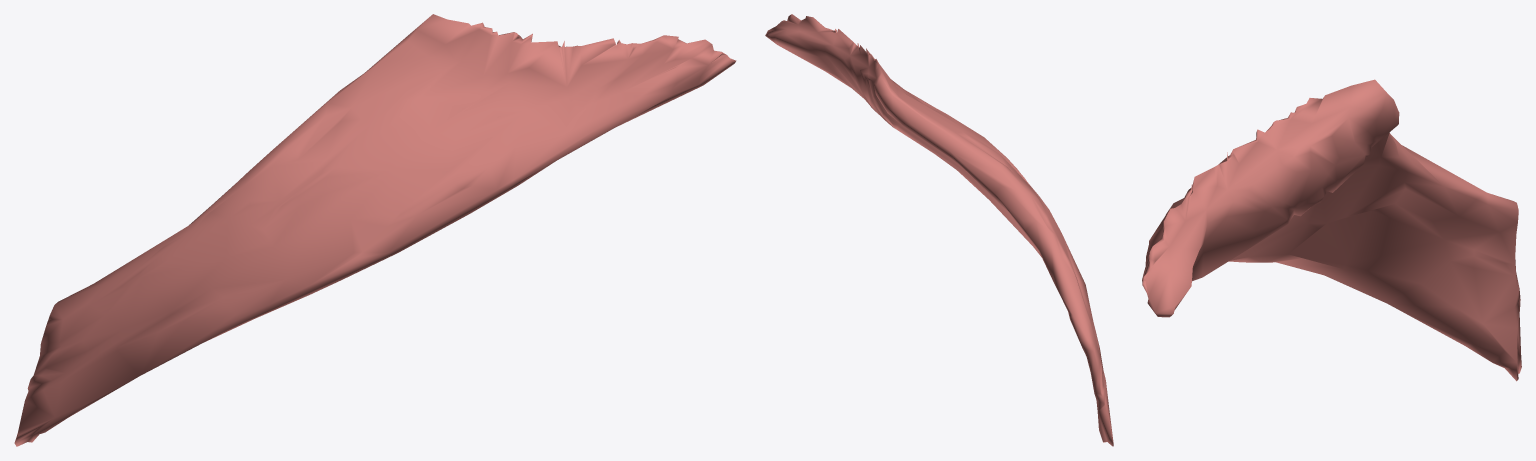
3 renders of one model, left to right at view 1: azimuth 30°, elevation 25°; view 2: azimuth 150°, elevation 25°; view 3: azimuth 270°, elevation 25°, orthographic. The views are drawn at different scales.
Visible parts, largest first — view 1: ZA_9ac365e0905b0b22; view 2: ZA_9ac365e0905b0b22; view 3: ZA_9ac365e0905b0b22.
Part boxes in pixels (<box>): ZA_9ac365e0905b0b22: <box>14,14,736,446</box>; ZA_9ac365e0905b0b22: <box>765,14,1113,446</box>; ZA_9ac365e0905b0b22: <box>1142,79,1521,381</box>.
Size of the model in its own units: 0.1734 by 0.1056 by 0.0652.
